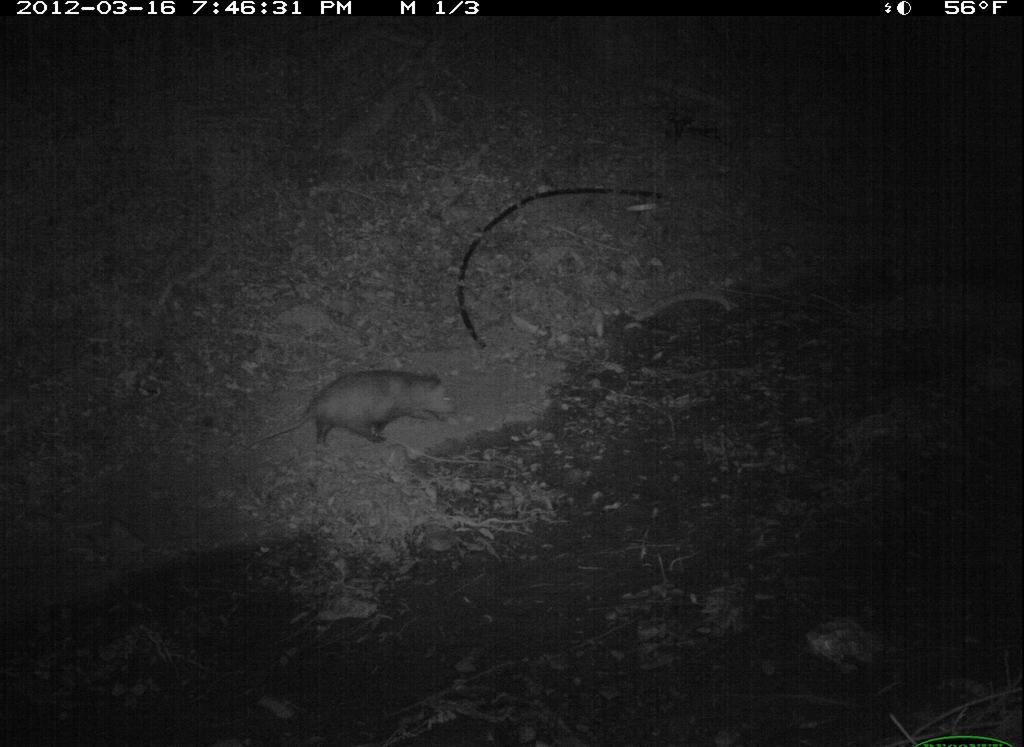opossum: (254, 358, 481, 456)
